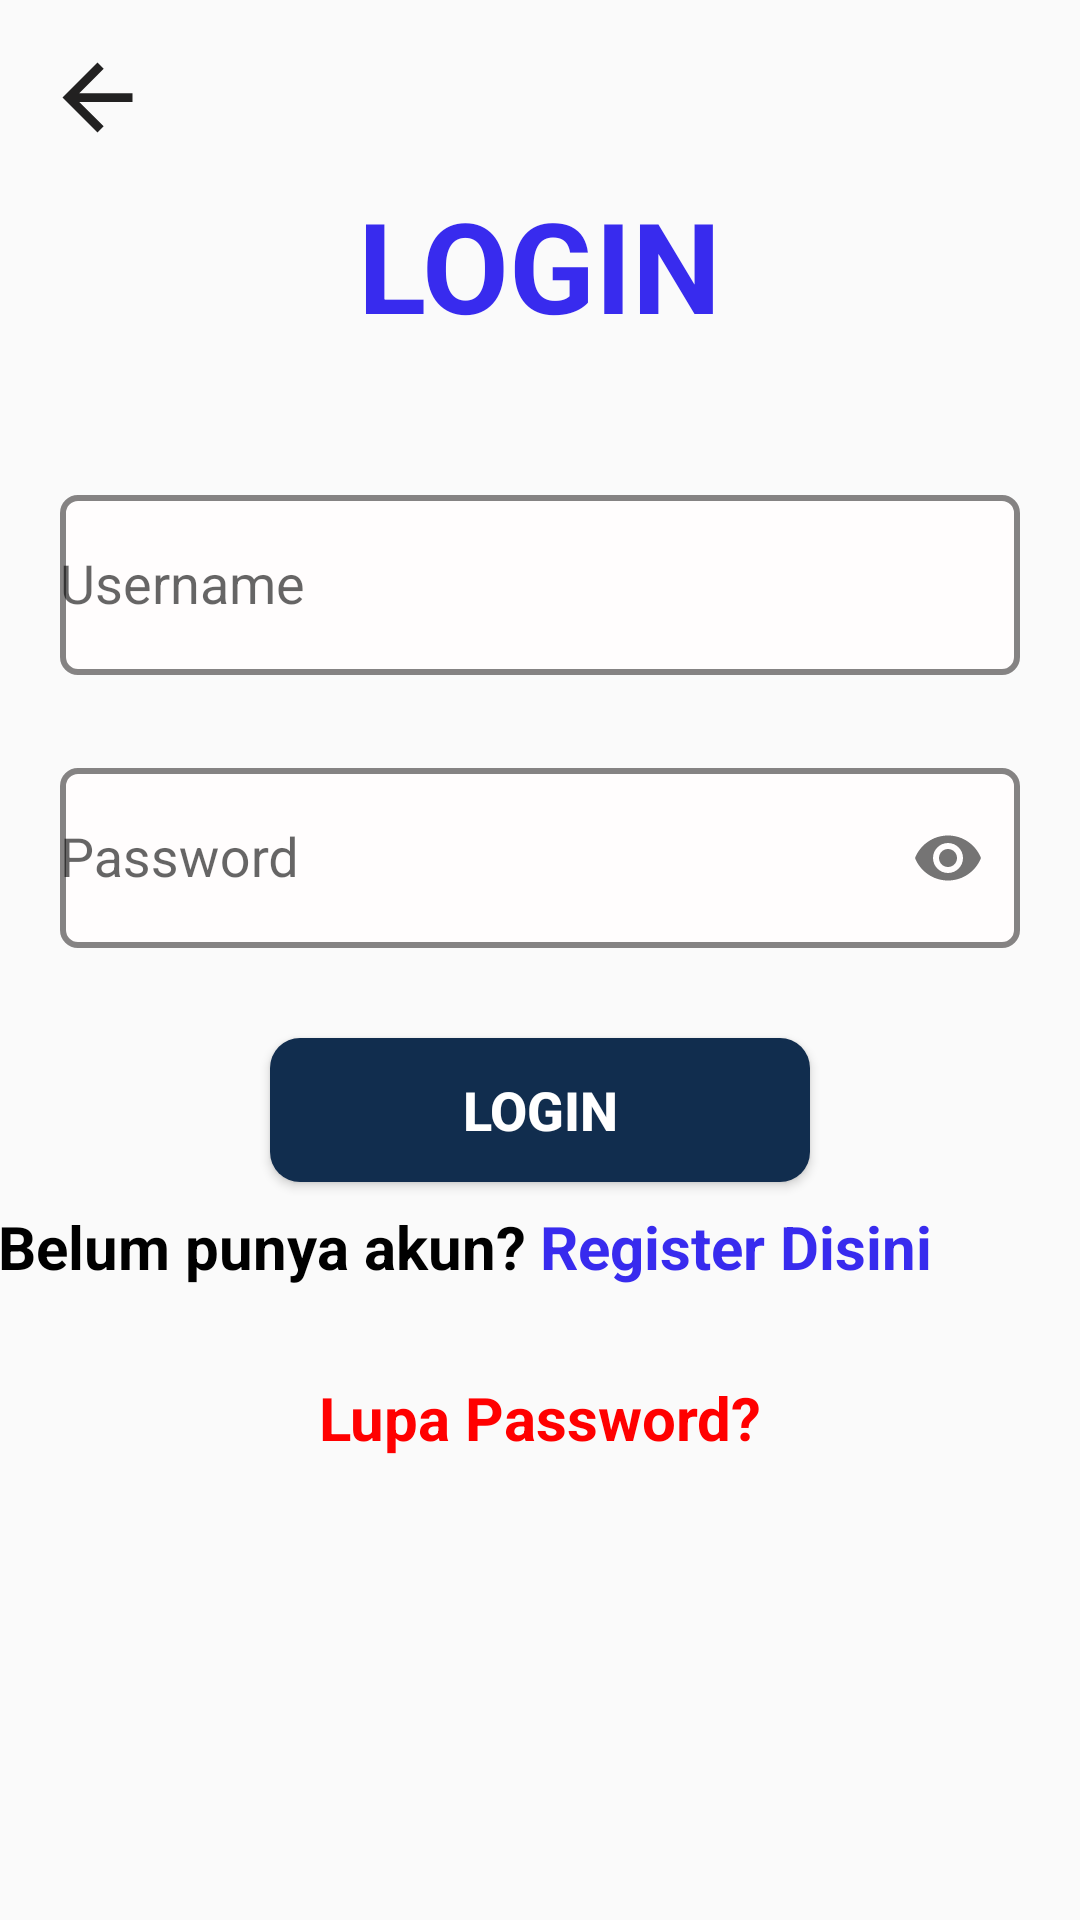

Locate icon controls on the screen. Image size 1080*1920, boxes as (x1, y1, x2, y2).
arrow back: (62, 62, 133, 133)
